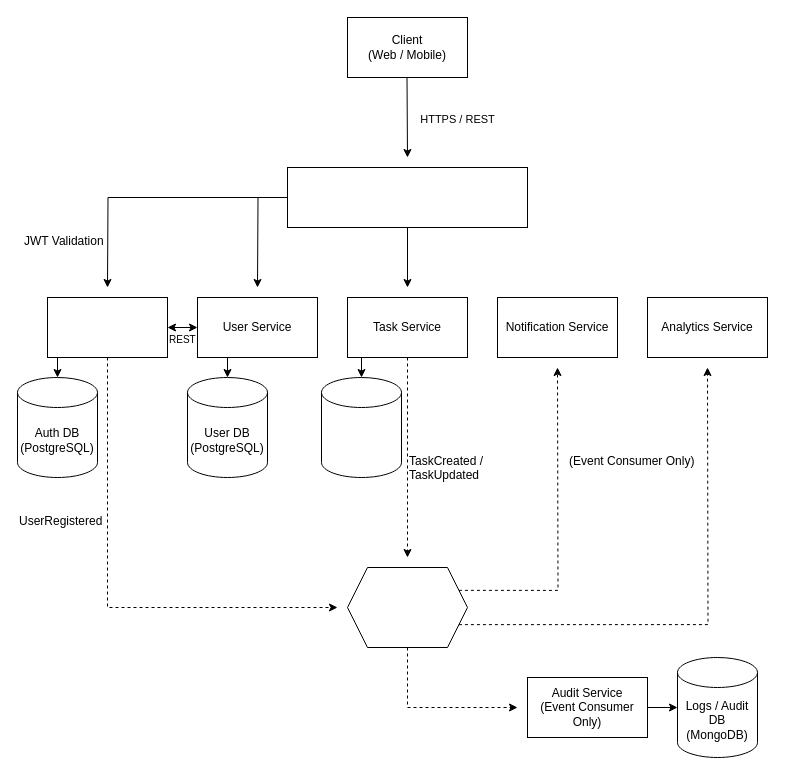
Image size: 785x775. Some labels were removed from this diagram. Here are the shapes that lost their labels. From the top down, the centre of each, then its label:
At pixel 407 197: "API Gateway (Auth, Routing, Rate Limit)".
At pixel 107 327: "Auth Service".
At pixel 361 427: "Task DB (PostgreSQL)".
At pixel 407 607: "Kafka (Event Broker)".
